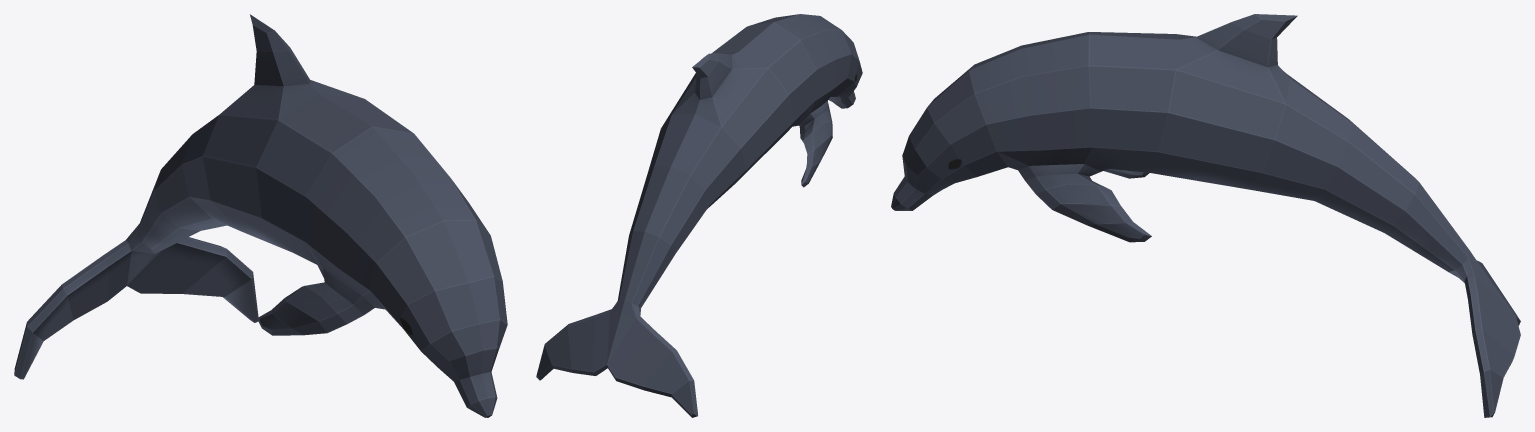
3 views of the same model, side by side, from view 1: azimuth 30°, elevation 25°; view 2: azimuth 150°, elevation 25°; view 3: azimuth 270°, elevation 25° (orthographic). The views are drawn at different scales.
Parts seen in each view (by area): view 1: Dolphin_mesh; view 2: Dolphin_mesh; view 3: Dolphin_mesh.
Part boxes in pixels (box(x1,y1,x2,y2)): Dolphin_mesh: box(14, 14, 507, 417); Dolphin_mesh: box(536, 14, 862, 417); Dolphin_mesh: box(891, 14, 1520, 417).
Bounding box in the file's own units: 5.63 × 9.25 × 14.84.
1 material, 1 textured.
